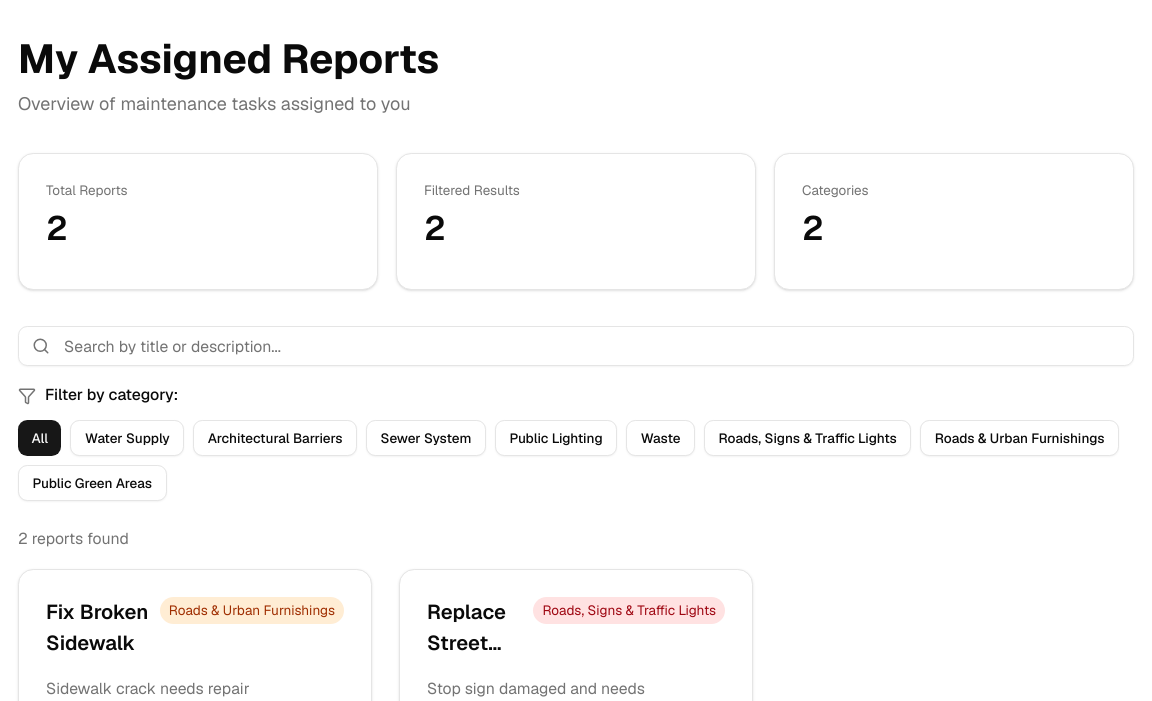
Test case: ReportsList (Officer My Reports) › should reset category filter to All Categories
Expected: the text "Fix Broken Sidewalk" is shown, [46, 597, 151, 660]
Click the button "Roads & Urban Furnishings". click: (1020, 438)
box: [920, 420, 1119, 456]
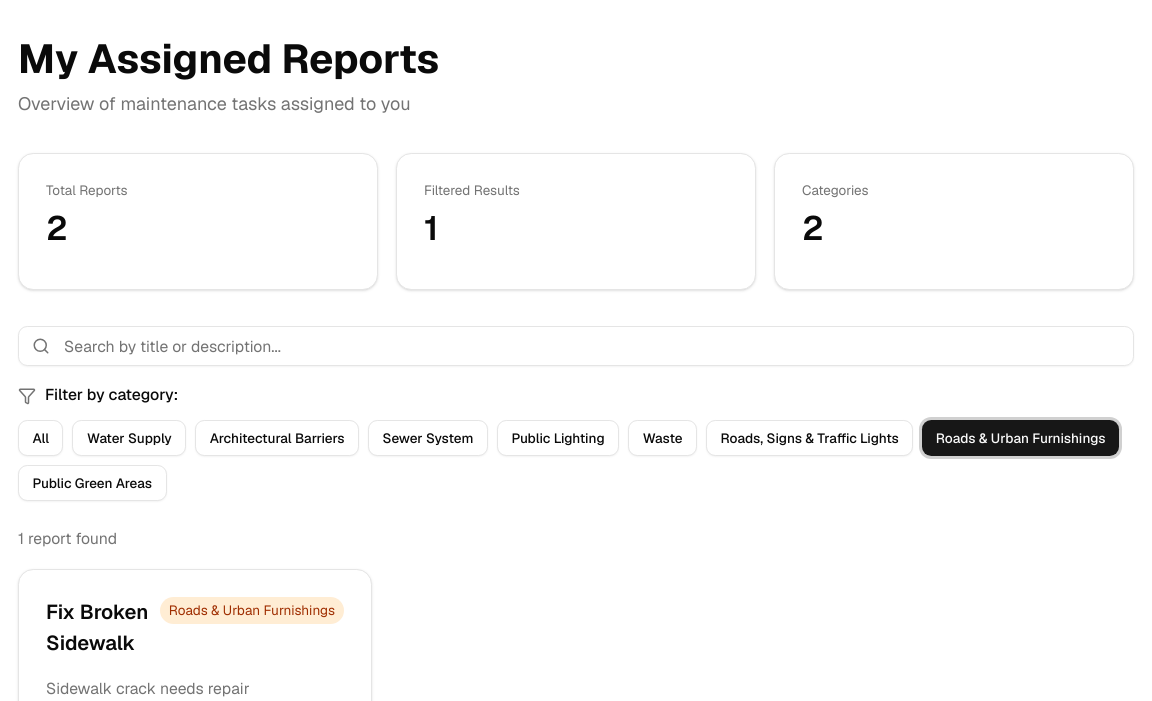
Expected: the text "Replace Street Sign" is gone
Click the button "All". click: (41, 438)
box: [18, 420, 64, 456]
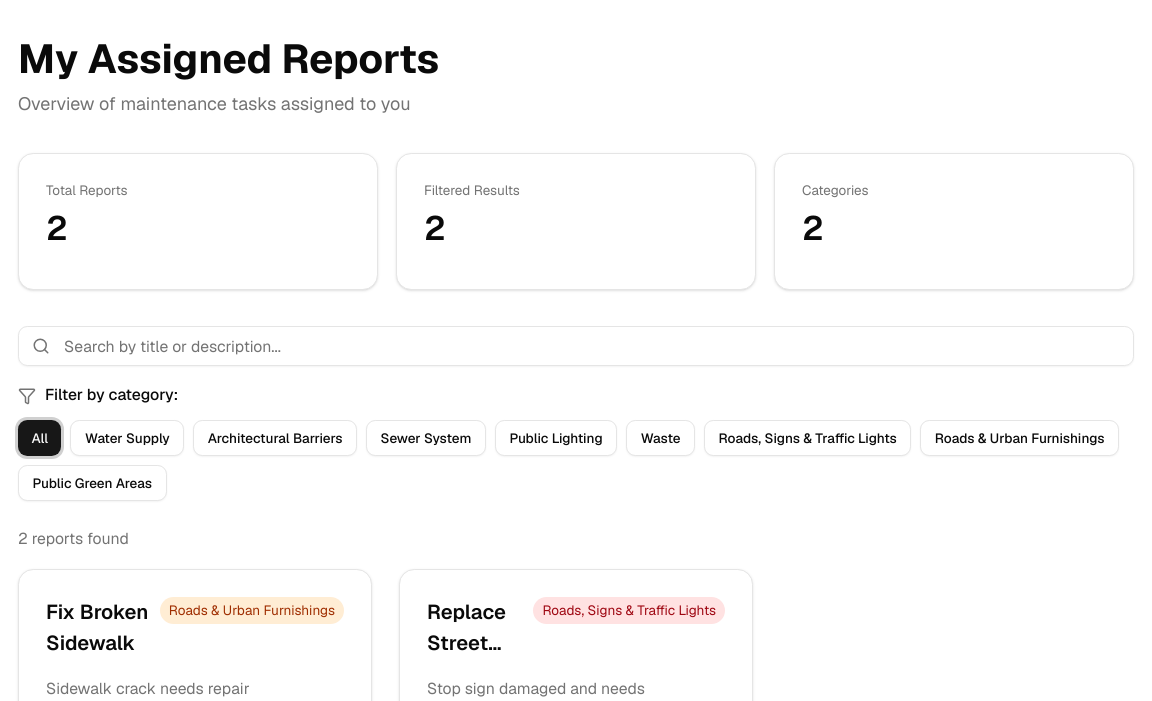
Expected: the text "Fix Broken Sidewalk" is shown, [46, 597, 151, 660]
Expected: the text "Replace Street Sign" is shown, [427, 599, 506, 688]
